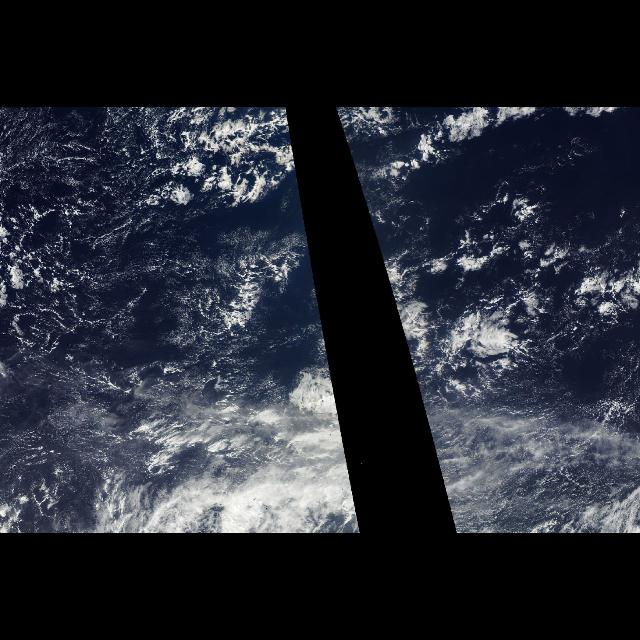Gravel: (0, 107, 186, 259), (420, 207, 640, 327)
Sugar: (3, 109, 257, 482), (434, 380, 634, 530)
